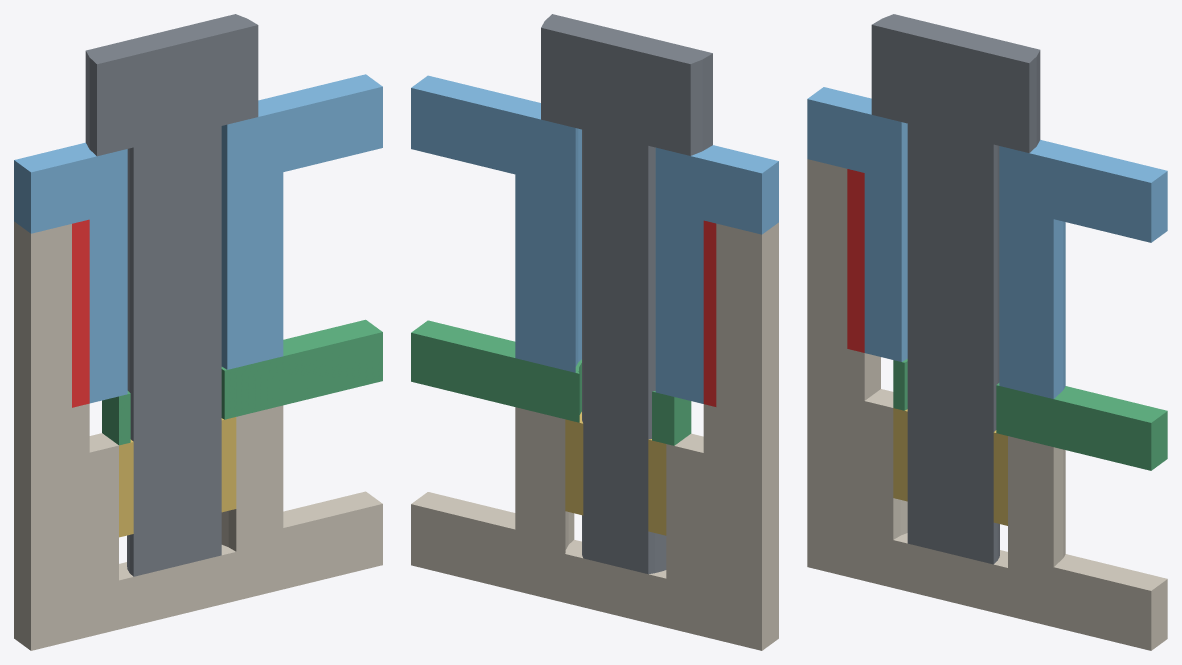
File: lid-column-base-wall-collision.actual.glb
3 renders of one model, left to right at view 1: azimuth 30°, elevation 25°; view 2: azimuth 150°, elevation 25°; view 3: azimuth 330°, elevation 25°, orthographic. The views are drawn at different scales.
Parts seen in each view (by area): view 1: EN1.H1.screw, base, lid, board, intersection-highlight, EN1.H1.insert; view 2: base, EN1.H1.screw, lid, board, EN1.H1.insert, intersection-highlight; view 3: EN1.H1.screw, base, lid, board, intersection-highlight, EN1.H1.insert.
Boxes of the visible parts, box(x1,y1,x2,y2) form: EN1.H1.screw: box(85, 14, 258, 576); base: box(14, 221, 382, 650); lid: box(14, 74, 382, 403); board: box(102, 319, 382, 445); intersection-highlight: box(72, 219, 89, 407); EN1.H1.insert: box(119, 417, 236, 537); base: box(411, 222, 778, 650); EN1.H1.screw: box(541, 14, 712, 574); lid: box(411, 75, 778, 403); board: box(411, 320, 691, 445); EN1.H1.insert: box(565, 412, 666, 535); intersection-highlight: box(703, 220, 716, 406); EN1.H1.screw: box(871, 14, 1040, 564); base: box(807, 159, 1167, 650); lid: box(807, 87, 1167, 398); board: box(893, 359, 1167, 470); intersection-highlight: box(847, 169, 864, 352); EN1.H1.insert: box(893, 408, 1007, 525).
Size of the model in its own units: 12 by 18.6 by 1.
